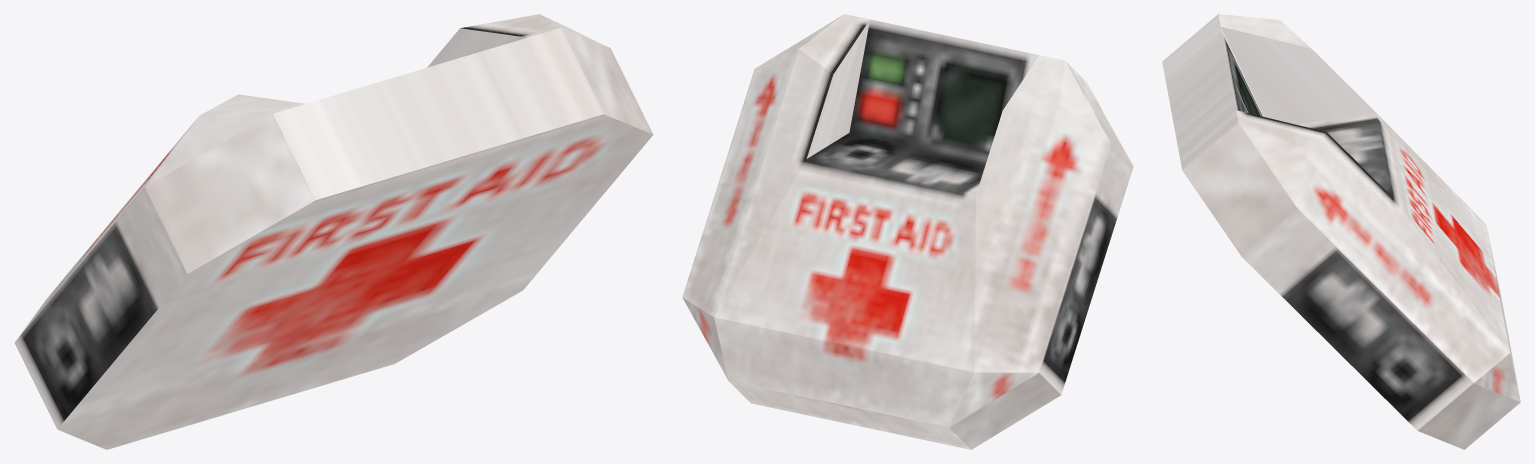
Rendered from p_medkit.glb.
3 renders of one model, left to right at view 1: azimuth 30°, elevation 25°; view 2: azimuth 150°, elevation 25°; view 3: azimuth 270°, elevation 25°, orthographic. The views are drawn at different scales.
Parts seen in each view (by area): view 1: p_medkit; view 2: p_medkit; view 3: p_medkit.
Boxes of the visible parts, x1,y1,x2,y2 form: p_medkit: [14, 14, 653, 449]; p_medkit: [682, 14, 1133, 449]; p_medkit: [1162, 14, 1520, 449].
Bounding box in the file's own units: 11.88 × 9.97 × 9.67.
Materials: 1 (1 with a texture image).
